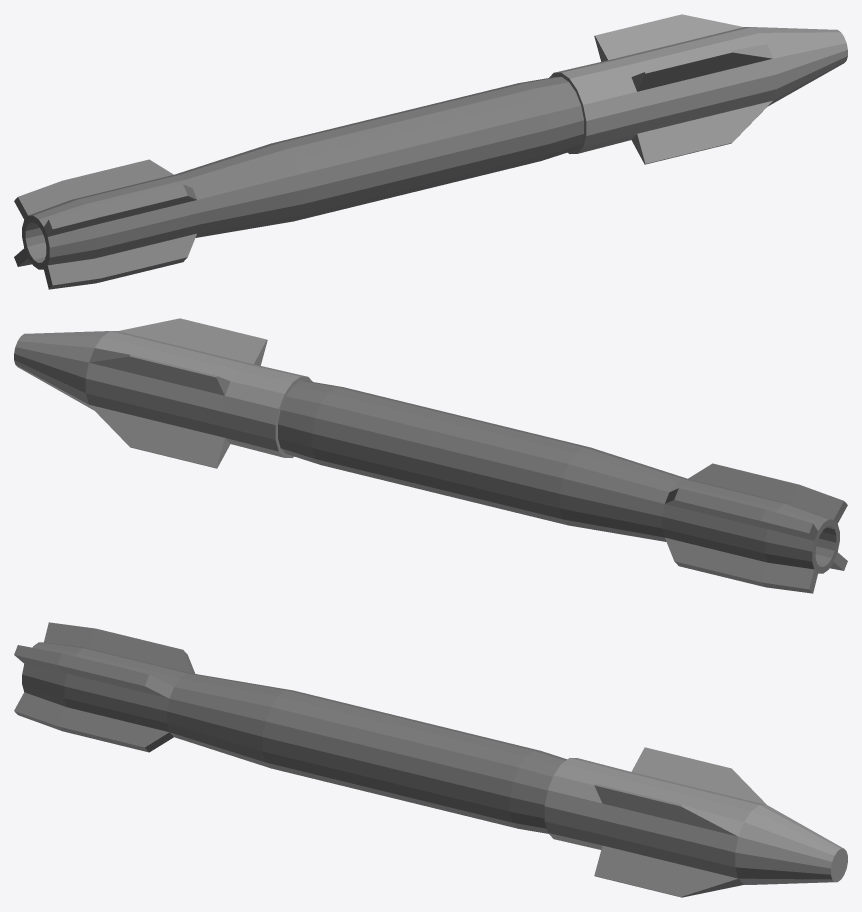
File: Enemy_Missile.obj
3 renders of one model, top to bottom at view 1: azimuth 30°, elevation 25°; view 2: azimuth 150°, elevation 25°; view 3: azimuth 330°, elevation 25°, orthographic.
Parts seen in each view (by area): view 1: Object_91; view 2: Object_91; view 3: Object_91.
Part boxes in pixels (x1=…): Object_91: x1=14, y1=14, x2=847, y2=289; Object_91: x1=14, y1=318, x2=847, y2=593; Object_91: x1=14, y1=622, x2=847, y2=897.
Size of the model in its own units: 1.03 by 0.1132 by 0.1132.
Materials: 1 (1 with a texture image).
